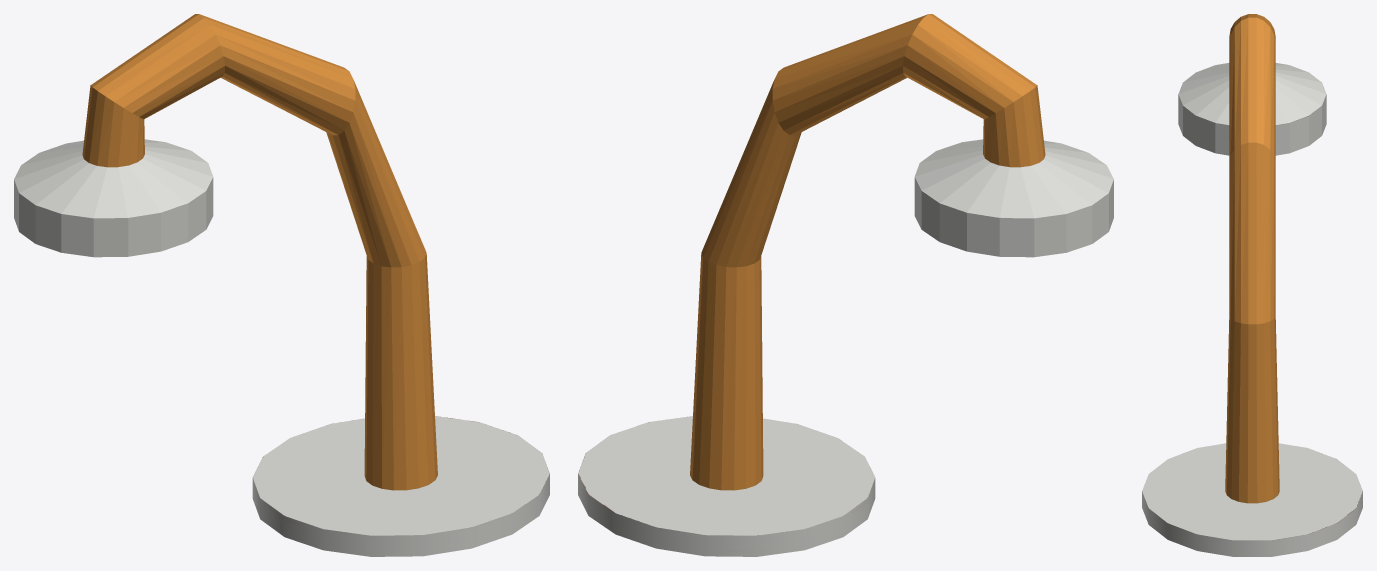
Rendered from LamparaEscritorio.fbx.
The picture shows the model from 3 angles, left to right: view 1: azimuth 30°, elevation 25°; view 2: azimuth 150°, elevation 25°; view 3: azimuth 270°, elevation 25°; orthographic projection. The views are drawn at different scales.
Parts seen in each view (by area): view 1: LamparaEscritorio(Mapeada)(texturizada); view 2: LamparaEscritorio(Mapeada)(texturizada); view 3: LamparaEscritorio(Mapeada)(texturizada).
Part boxes in pixels (left/top/right/bottom): LamparaEscritorio(Mapeada)(texturizada): left=14, top=14, right=549, bottom=556; LamparaEscritorio(Mapeada)(texturizada): left=578, top=14, right=1113, bottom=556; LamparaEscritorio(Mapeada)(texturizada): left=1142, top=14, right=1362, bottom=556.
Bounding box in the file's own units: 210 × 211 × 102.
